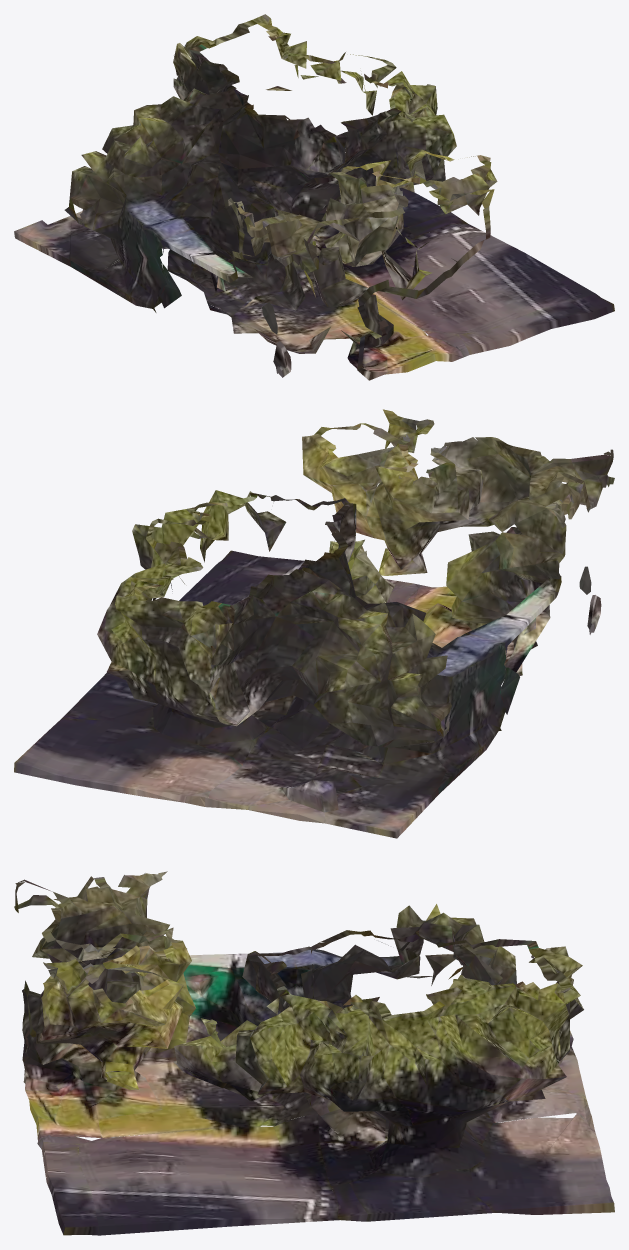
The picture shows the model from 3 angles, top to bottom: view 1: azimuth 30°, elevation 25°; view 2: azimuth 150°, elevation 25°; view 3: azimuth 270°, elevation 25°; orthographic projection. The views are drawn at different scales.
Parts seen in each view (by area): view 1: Mesh_0; view 2: Mesh_0; view 3: Mesh_0.
Part boxes in pixels (<box>): Mesh_0: <box>14,14,614,380</box>; Mesh_0: <box>14,409,614,838</box>; Mesh_0: <box>14,871,614,1235</box>.
Bounding box in the file's own units: 33.27 × 14.5 × 41.32.
1 material, 1 textured.
